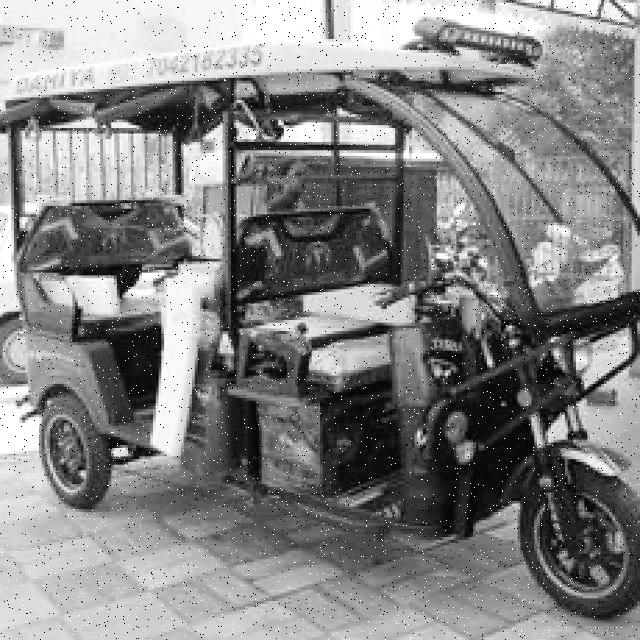Toto: (0, 45, 640, 610)
